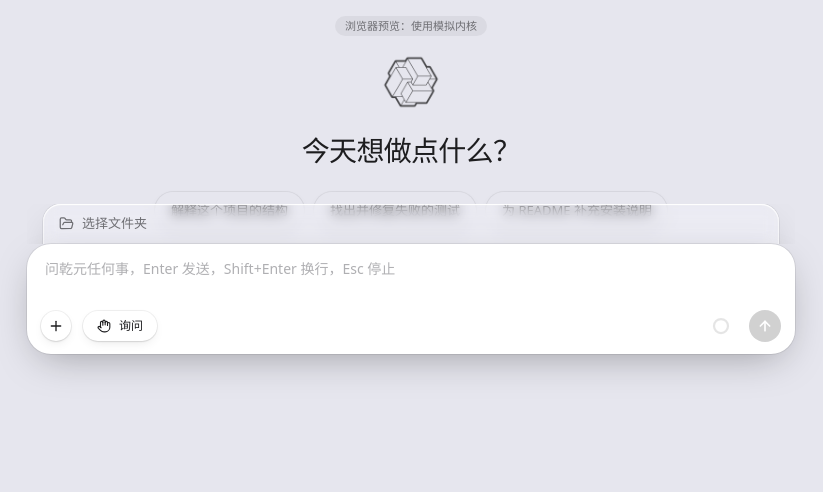
对话区（mock 事件流） › 重启失败时保留已停止提示与重启入口
Type "你好" into the text box named "输入消息" at [411, 280], box [41,258,781,302]
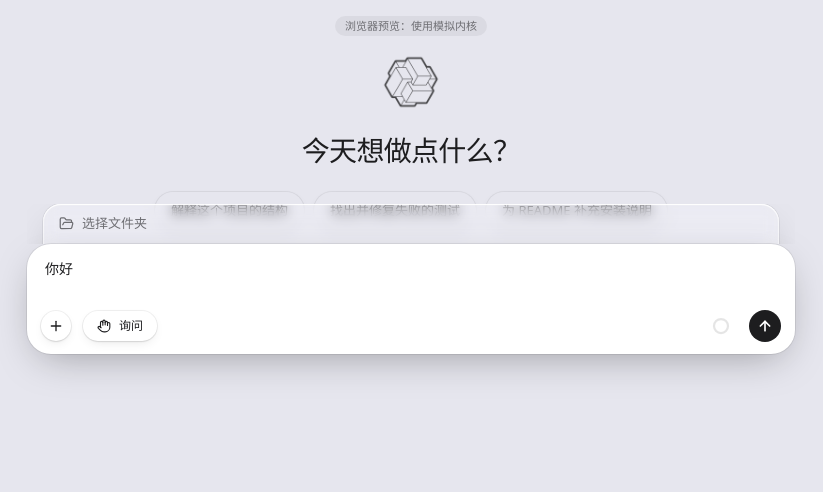
Press Enter in the text box named "输入消息", box [41,258,781,302]
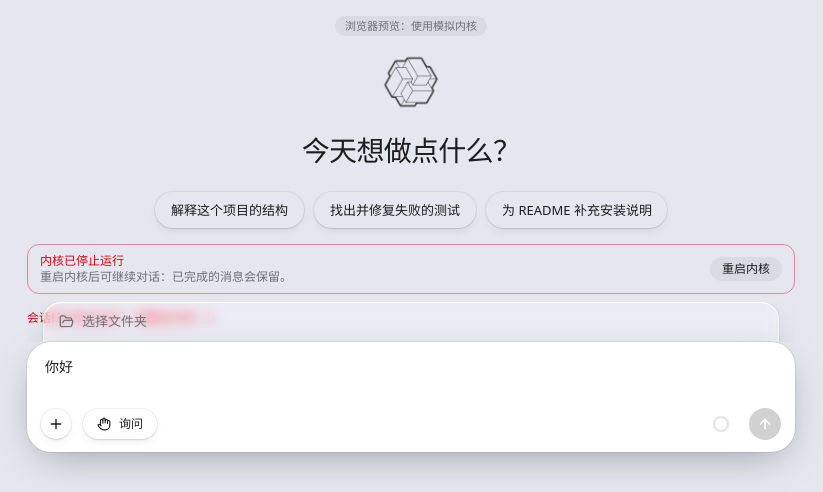
Expected: the text "内核已停止运行" is shown, [40,252,124,269]
Click the button "重启内核" at [746, 269], box [710,257,782,281]
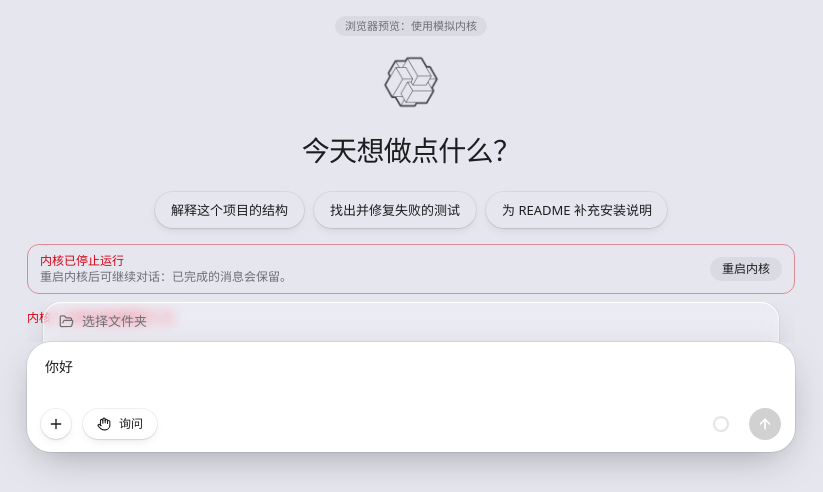
Expected: the text "内核已停止运行" is shown, [40,252,124,269]
Expected: the button "重启内核" is enabled, [710,257,782,281]
Expected: the text "内核 1 分钟内连续崩溃 3 次" is shown, [27,309,173,326]
